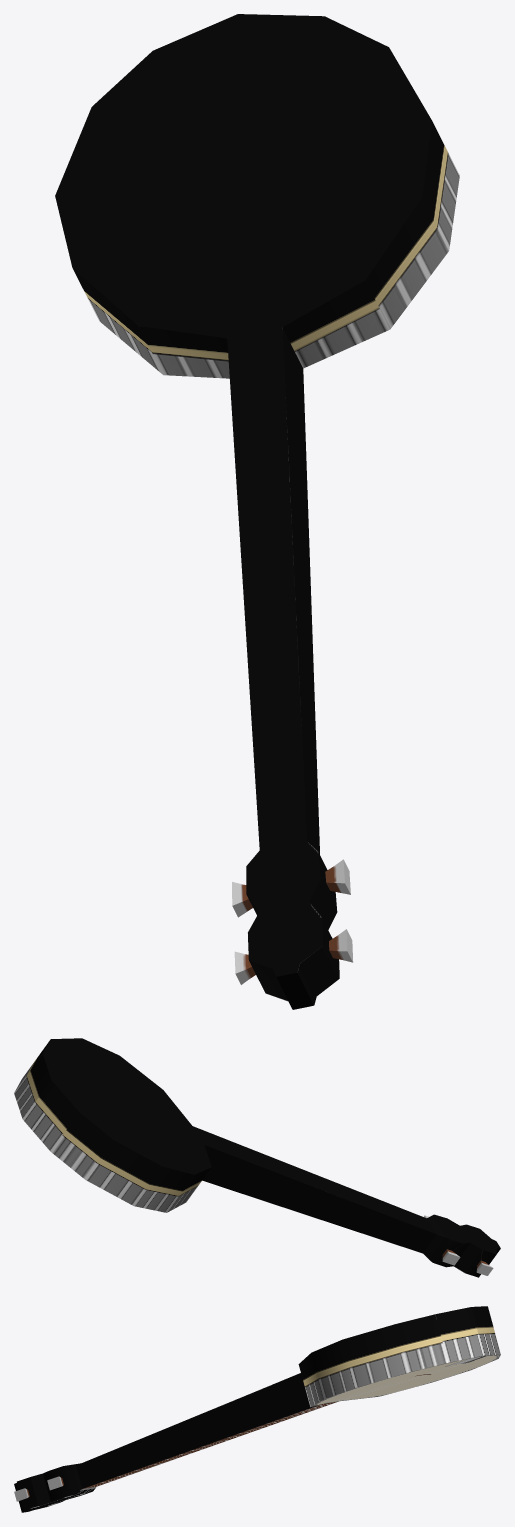
File: guitarra1_000197.obj
3 views of the same model, one above another, from view 1: azimuth 30°, elevation 25°; view 2: azimuth 150°, elevation 25°; view 3: azimuth 270°, elevation 25° (orthographic). The views are drawn at different scales.
Visible parts, largest first — view 1: g1_pCube6; view 2: g1_pCube6; view 3: g1_pCube6.
Boxes of the visible parts, x1,y1,x2,y2 form: g1_pCube6: (55, 14, 459, 1009); g1_pCube6: (14, 1038, 500, 1277); g1_pCube6: (14, 1306, 500, 1512).
Bounding box in the file's own units: 7.1 × 7.58 × 10.98.
